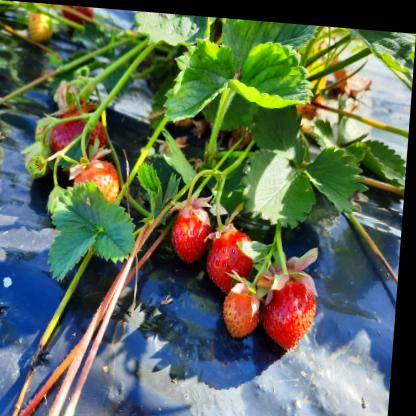ripe: (267, 269, 323, 344), (47, 99, 106, 166), (174, 200, 214, 256), (213, 233, 252, 282)
unripe: (69, 161, 118, 214), (227, 282, 269, 331)
